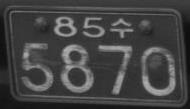0: (141, 45, 176, 96)
5: (21, 41, 54, 93), (82, 15, 105, 38)
7: (98, 43, 134, 95)
8: (59, 42, 95, 94), (53, 15, 77, 37)
수: (110, 17, 133, 38)
